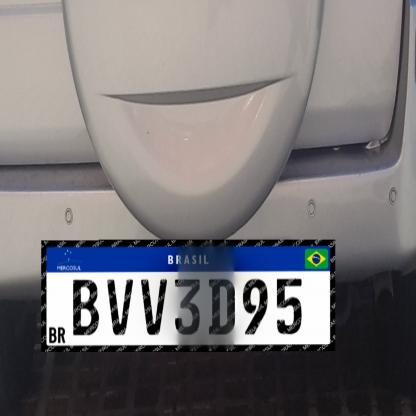PlacaM: (41, 240, 335, 352)
